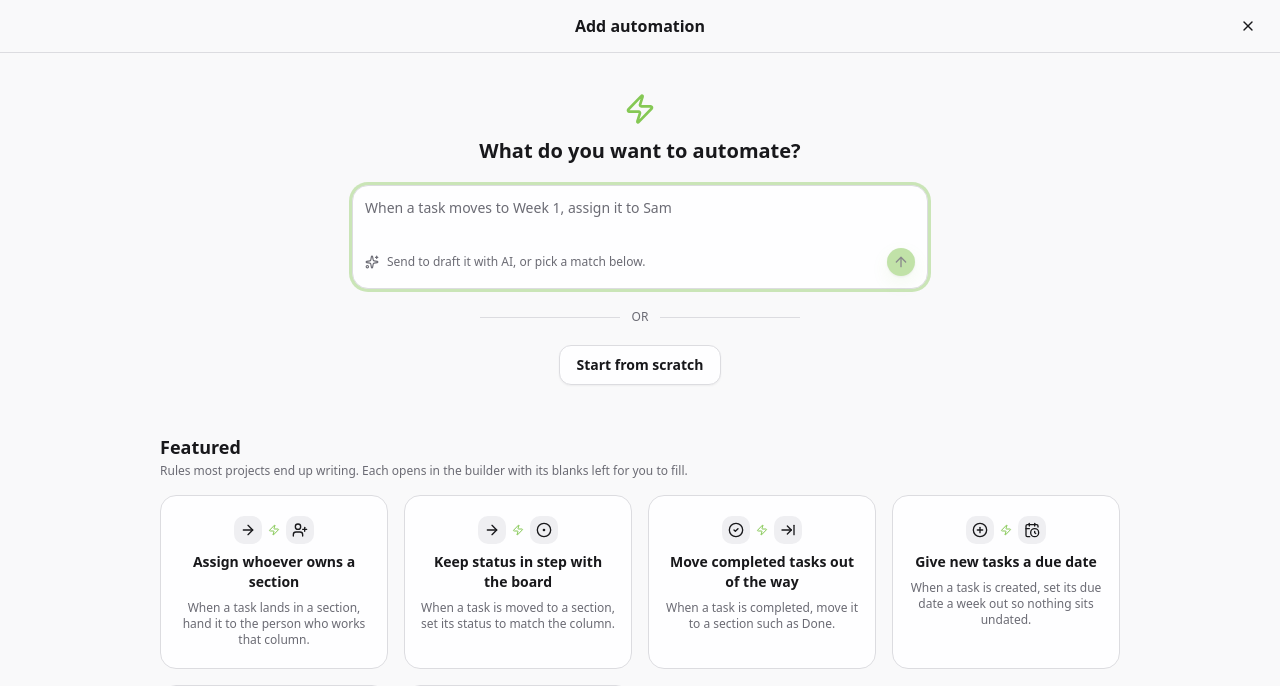
Scenario: AddAutomationDialog › drafting with AI › says under the box why nothing was drafted, until the sentence changes
The width and height of the screenshot is (1280, 686).
Type "what is the weather?" into the text box named "What do you want to automate?" at (640, 218), box x1=365 y1=198 x2=915 y2=238
Then press Enter
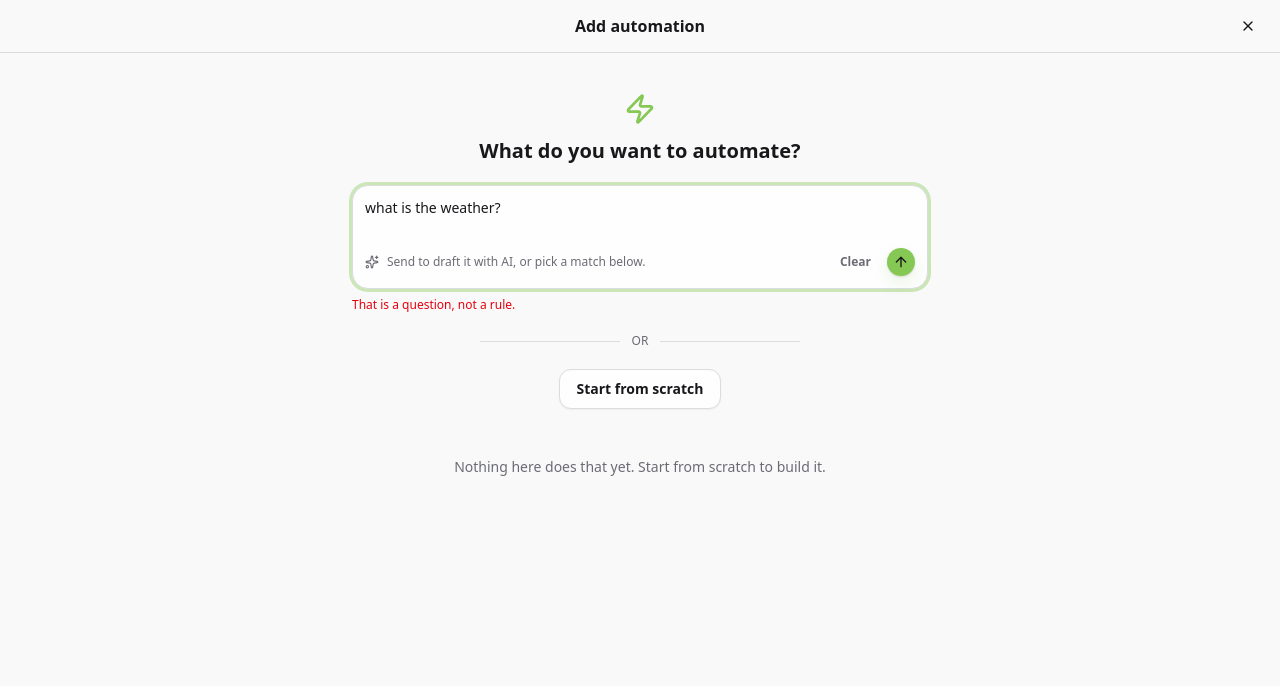
Expected: the message reads "That is a question, not a rule.", x1=352 y1=296 x2=515 y2=313
Type " tomorrow" into the text box named "What do you want to automate?" at (640, 218), box x1=365 y1=198 x2=915 y2=238
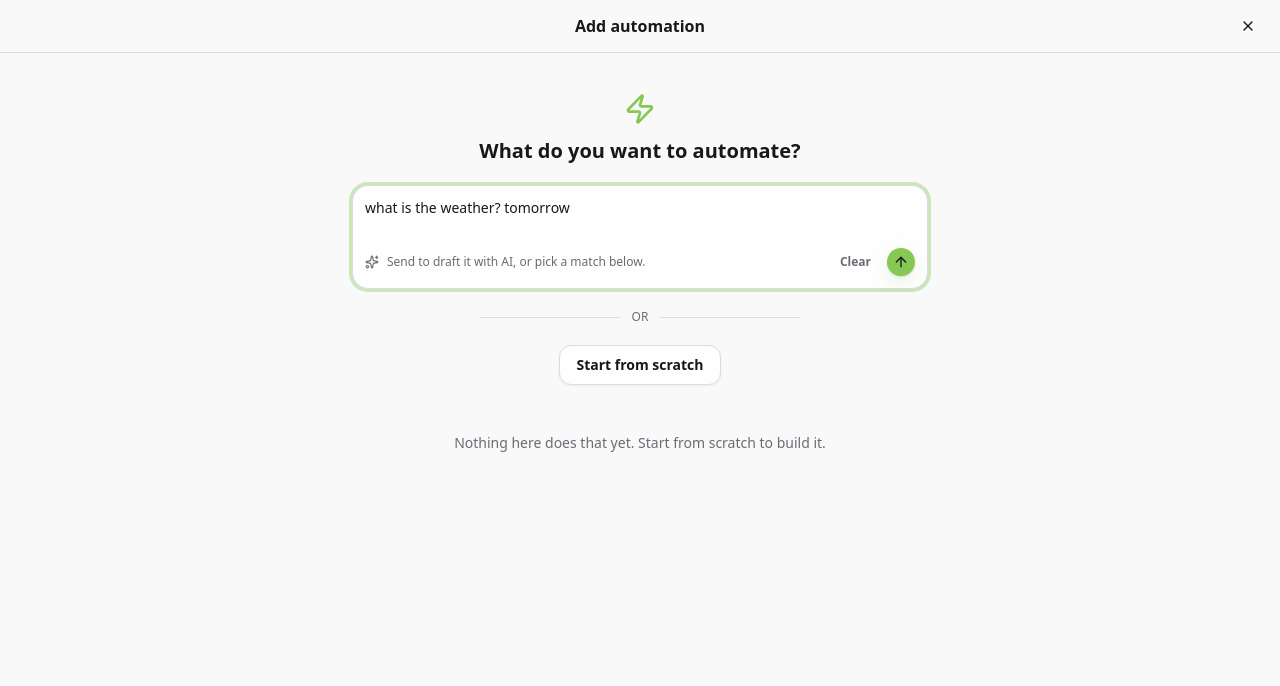
Expected: the message "That is a question, not a rule." is gone
